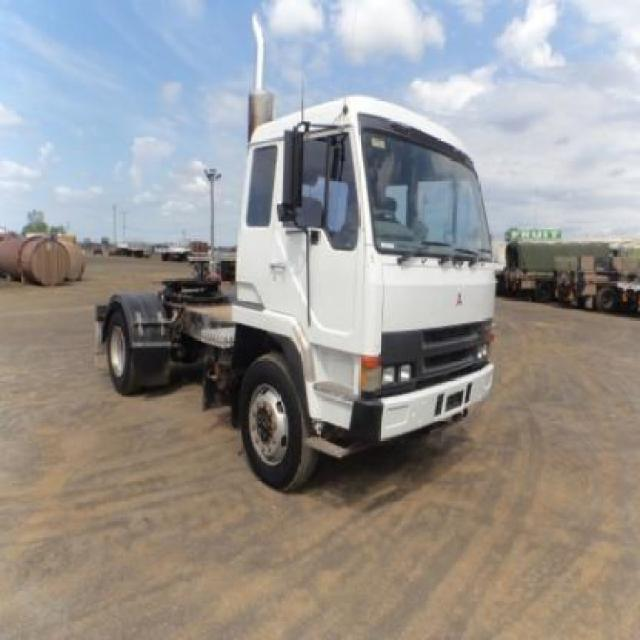truck: (88, 10, 520, 499)
